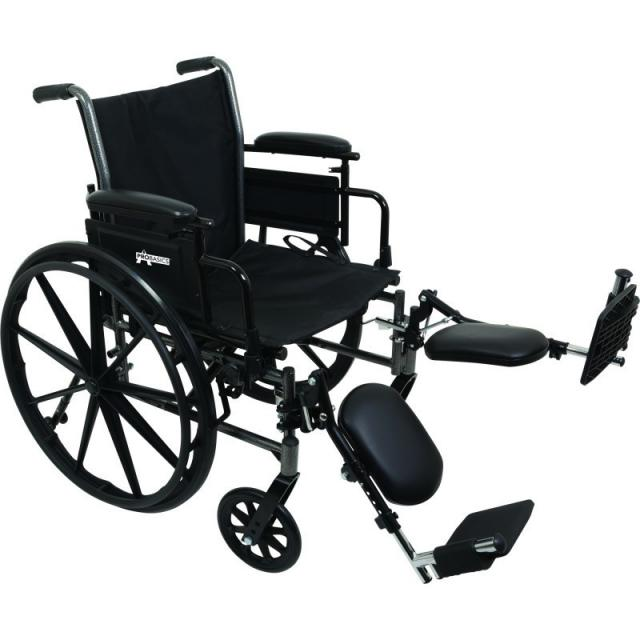wheelchair: (4, 50, 640, 587)
